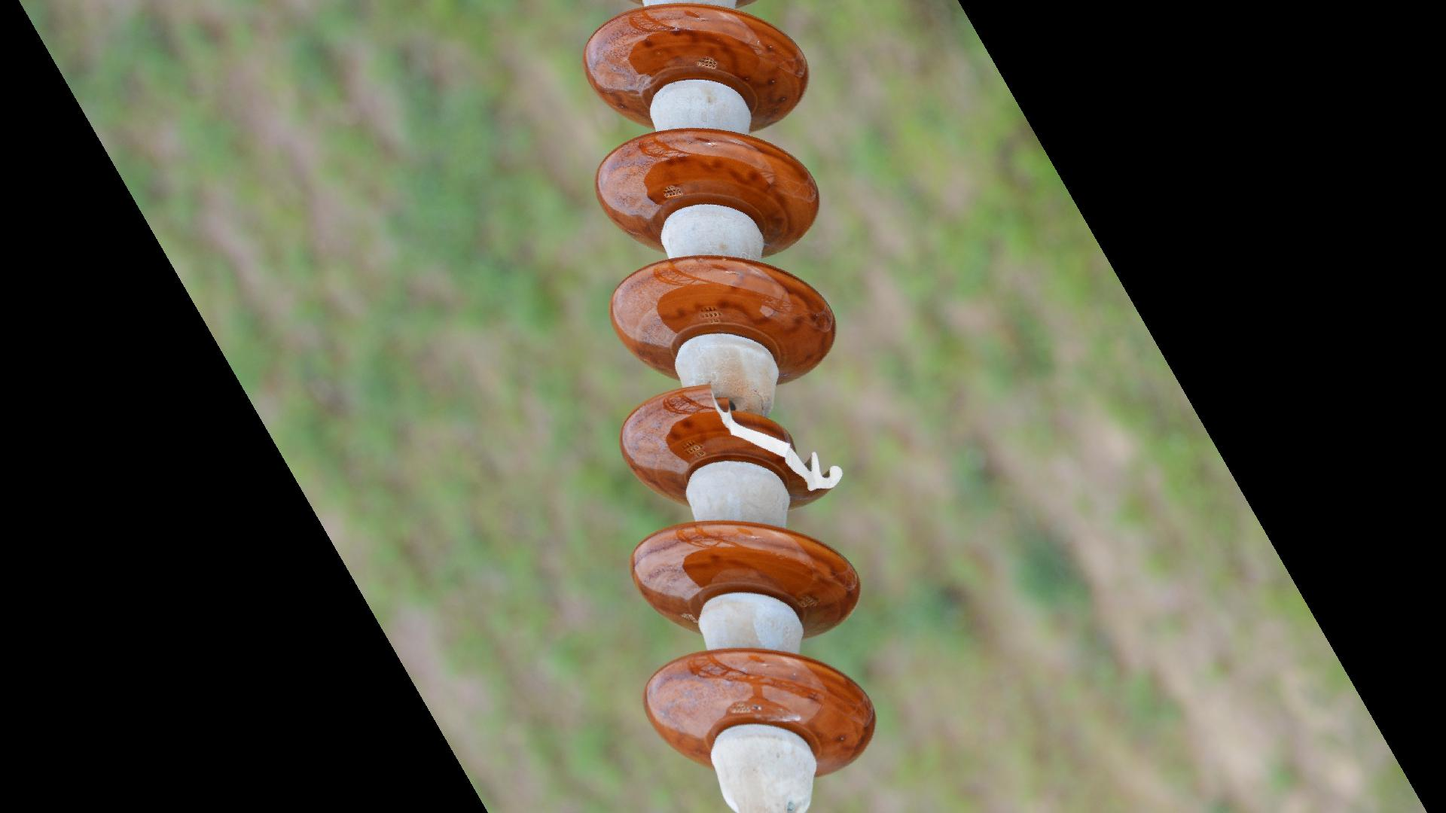insulator: (575, 1, 883, 784)
insulator_breakage: (695, 376, 852, 499)
